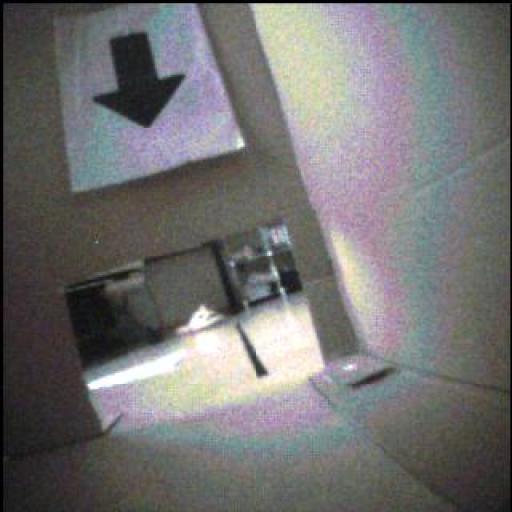arrow: (94, 35, 185, 129)
